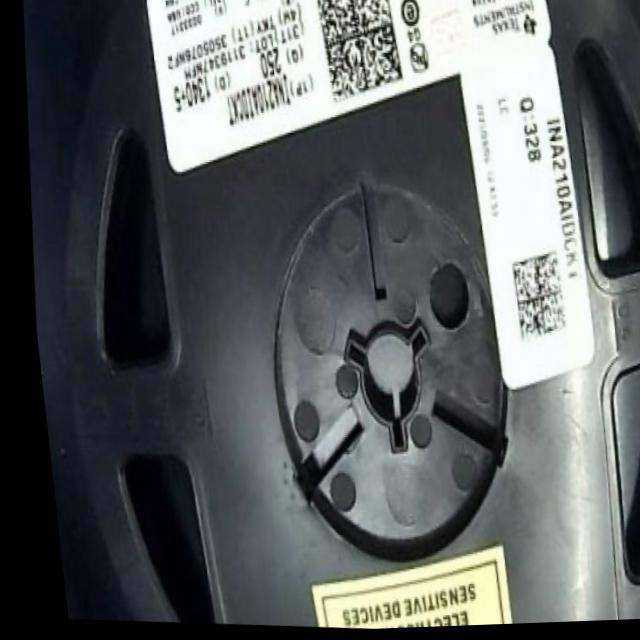datamatrix: (306, 1, 411, 118), (495, 246, 566, 350)
